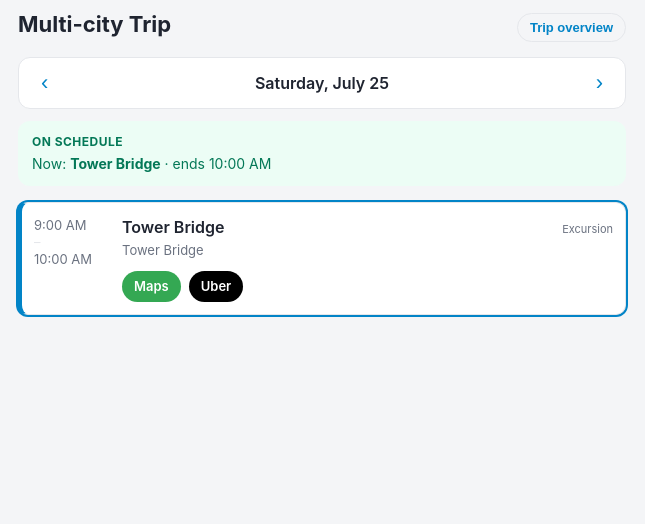
Test: App › switches to the trip overview and summarizes each city as prose
What coordinates should you click on to do the following:
click the button "Trip overview"
I would click on:
 (571, 28)
Its box is [517, 13, 626, 42].
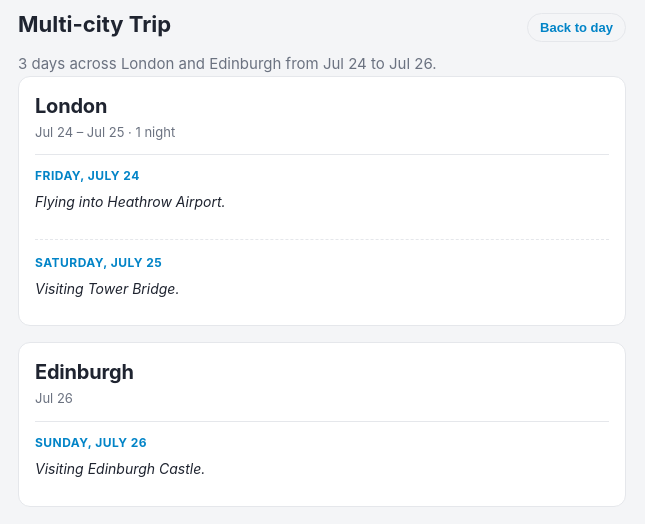
Expected: the text "3 days across London and Edinburgh from Jul 24 to Jul 26." is shown, [18, 54, 436, 73]
Expected: the heading "London" is shown, [35, 94, 107, 118]
Expected: the heading "Edinburgh" is shown, [35, 360, 134, 384]
